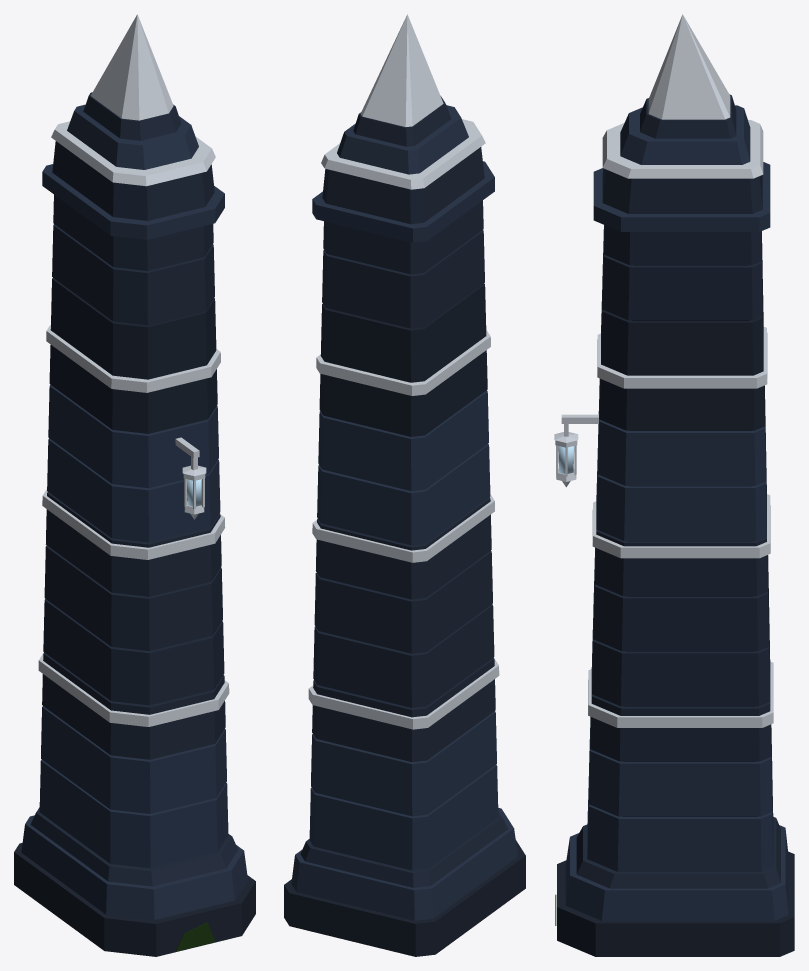
The model's file is Rempart_P2_Pilier.fbx.
The picture shows the model from 3 angles, left to right: view 1: azimuth 30°, elevation 25°; view 2: azimuth 150°, elevation 25°; view 3: azimuth 270°, elevation 25°; orthographic projection. The views are drawn at different scales.
Visible parts, largest first — view 1: P2_Pilier_PierreA, P2_Pilier_PierreB, P2_Pilier_PierreC, P2_Pilier_Argent, P2_Pilier_Mousse; view 2: P2_Pilier_PierreA, P2_Pilier_PierreB, P2_Pilier_PierreC, P2_Pilier_Argent; view 3: P2_Pilier_PierreA, P2_Pilier_PierreB, P2_Pilier_PierreC, P2_Pilier_Argent, P2_Pilier_Joint.
Boxes of the visible parts, left/top/right/bottom form: P2_Pilier_PierreA: left=30, top=92, right=237, bottom=886; P2_Pilier_PierreB: left=21, top=104, right=247, bottom=919; P2_Pilier_PierreC: left=14, top=278, right=255, bottom=956; P2_Pilier_Argent: left=38, top=14, right=229, bottom=726; P2_Pilier_Mousse: left=175, top=922, right=215, bottom=951; P2_Pilier_PierreA: left=300, top=96, right=507, bottom=887; P2_Pilier_PierreB: left=291, top=105, right=517, bottom=920; P2_Pilier_PierreC: left=284, top=283, right=525, bottom=956; P2_Pilier_Argent: left=308, top=14, right=499, bottom=729; P2_Pilier_PierreA: left=576, top=94, right=780, bottom=888; P2_Pilier_PierreB: left=565, top=105, right=788, bottom=920; P2_Pilier_PierreC: left=557, top=279, right=794, bottom=956; P2_Pilier_Argent: left=554, top=14, right=773, bottom=727; P2_Pilier_Joint: left=623, top=265, right=756, bottom=816.
Bounding box in the file's own units: 7.68 × 43 × 10.35.
